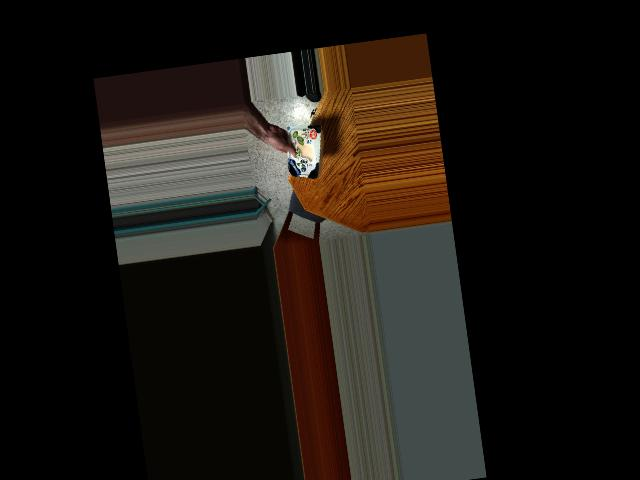cheese: (281, 123, 328, 181)
